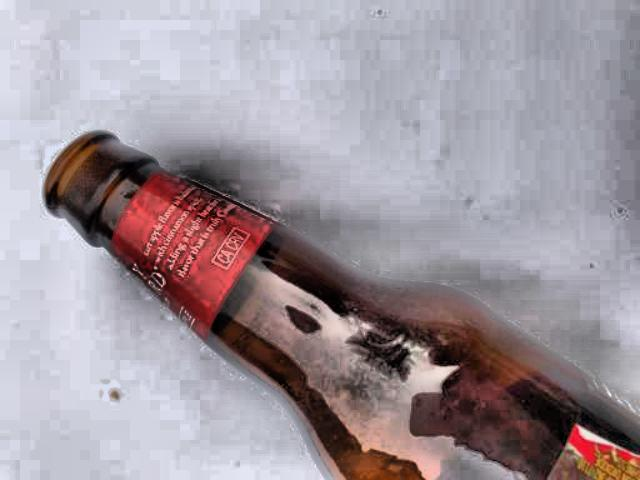Bottles: (14, 121, 639, 480)
